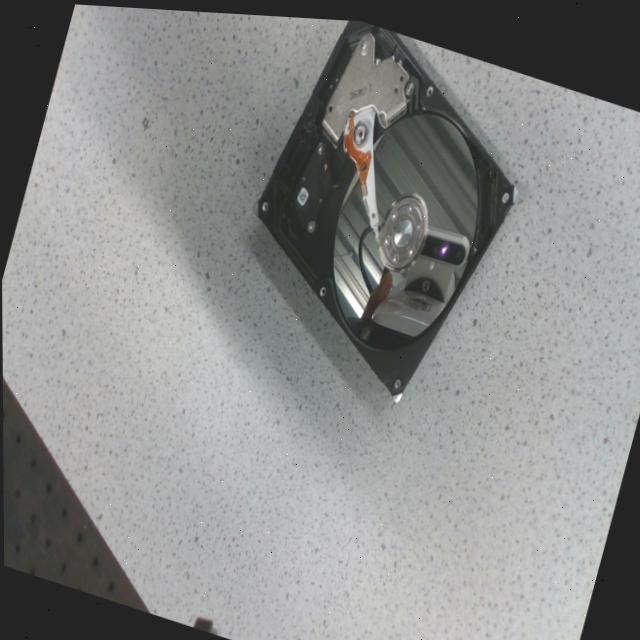actuator arm: (343, 100, 377, 227)
actuator axis: (355, 119, 365, 140)
case: (256, 16, 516, 396)
magnet: (322, 28, 408, 137)
pcb connector: (292, 134, 332, 226)
platter: (330, 108, 481, 346)
platter holder: (378, 188, 426, 264)
screw: (360, 30, 370, 50), (316, 139, 324, 150), (407, 241, 414, 252), (383, 230, 389, 242), (391, 248, 398, 258), (416, 216, 423, 226), (407, 197, 413, 208), (391, 205, 397, 215), (307, 218, 314, 226)
